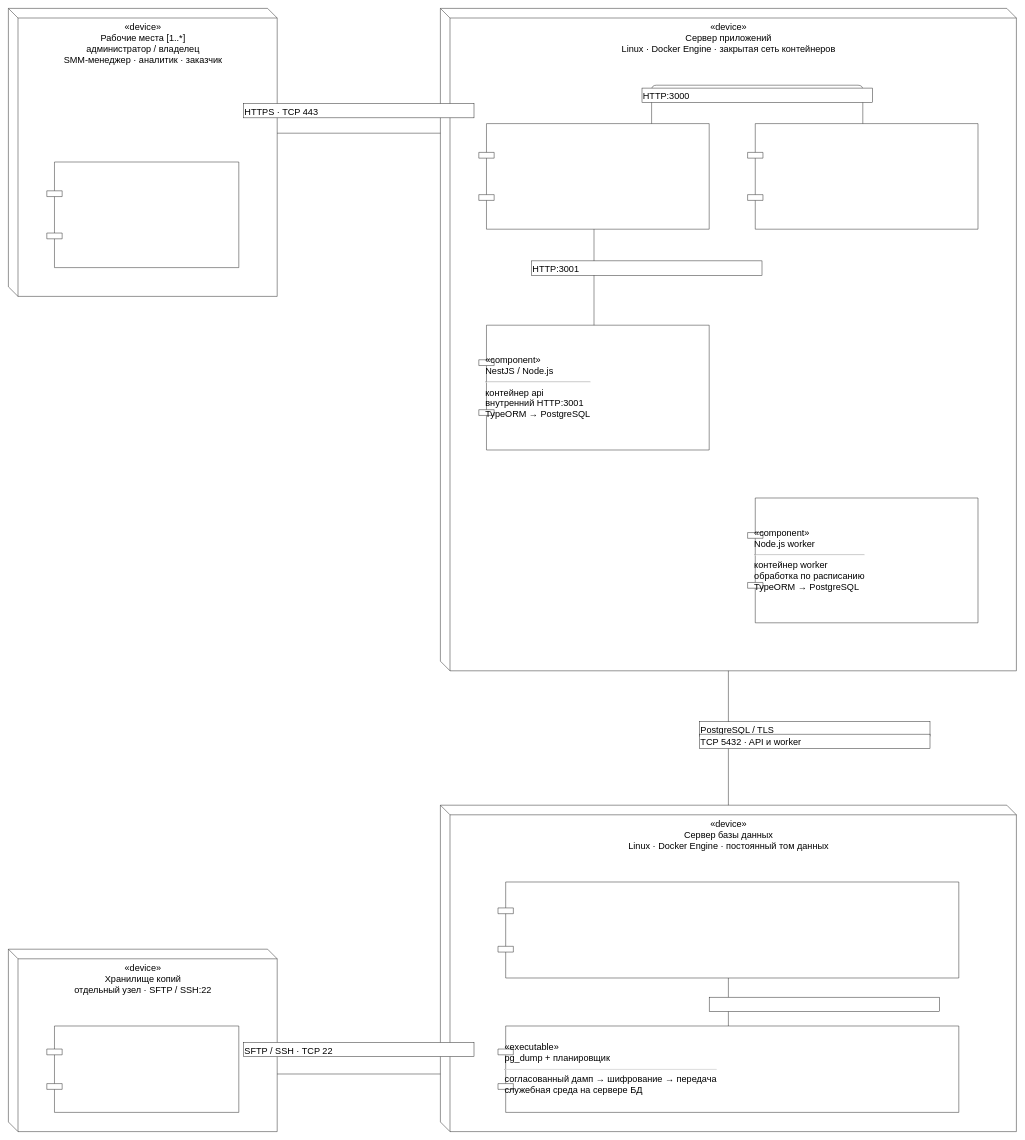
Image size: 1025x1140. Some labels were removed from this diagram. Here are the shapes that lost their labels. From the top down, the box of each, then its label:
(478, 123, 709, 229): «component» Nginx TLS → HTTPS:443 маршрутизация / и /api/*
(747, 123, 978, 229): «component» Next.js / Node.js контейнер web внутренний HTTP:3000
(46, 162, 239, 268): «executionEnvironment» Браузер клиентский JS и страницы загружаются с сервера
(498, 882, 959, 978): «component» PostgreSQL контейнер db · том pgdata интерфейс PostgreSQL / TLS:5432
(709, 997, 940, 1012): libpq · TCP 5432
(46, 1026, 239, 1112): «artifact» Архив дампов зашифрованные файлы отдельный доступ и хранение
